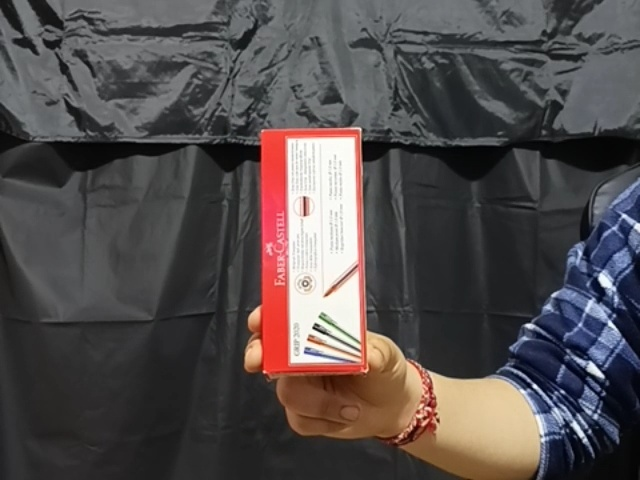xd: (258, 124, 369, 378)
